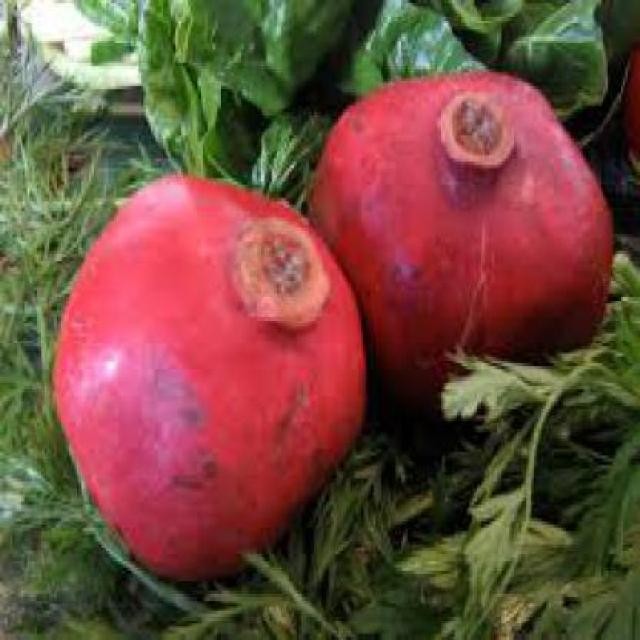BIODEGRADABLE: (52, 168, 366, 570), (104, 442, 638, 636), (312, 70, 606, 372), (0, 12, 142, 637), (413, 245, 638, 637), (74, 0, 338, 205), (336, 0, 633, 135), (620, 46, 638, 192)
